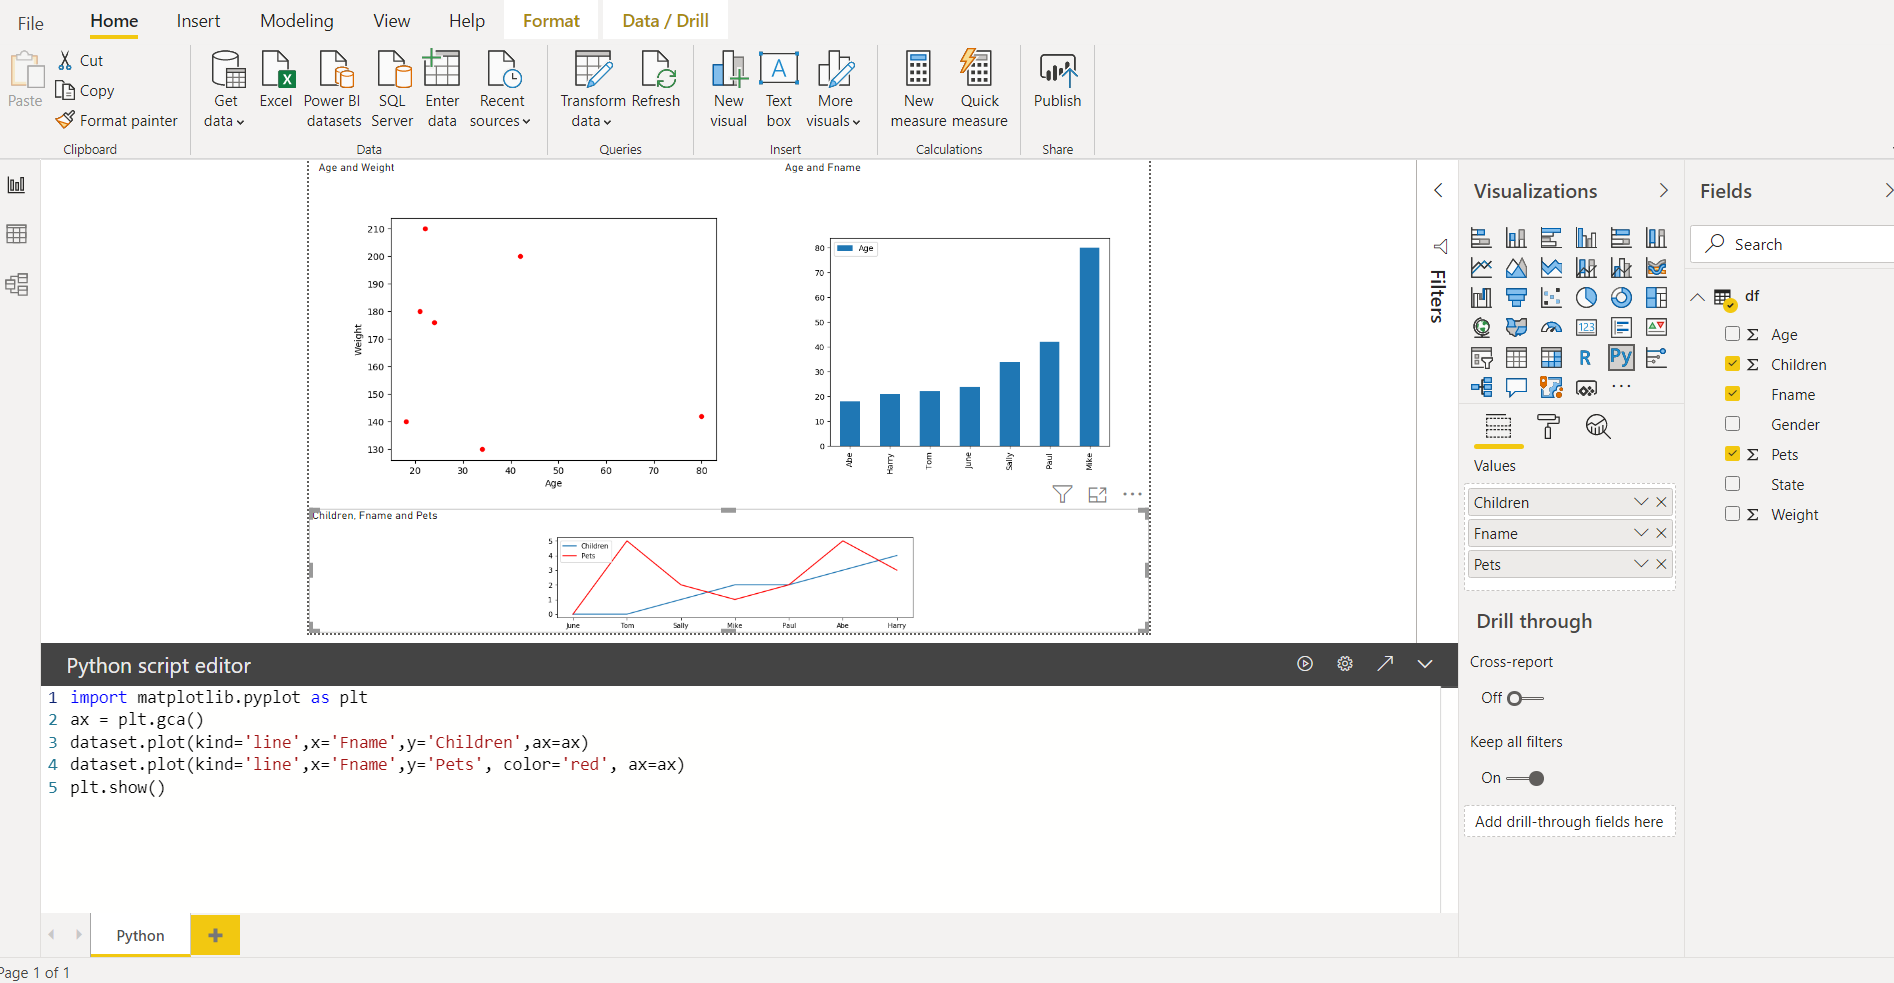

The page's visual inventory and layout, read from the dashboard file:
{"tool":"powerbi","page":{"name":"Python","canvas":[1280,720],"ordinal":0},"visuals":[{"type":"pythonVisual","fields":{"Values":["df.Age","df.Weight"]},"box":[9.5,0,710.5,521.9],"z":0},{"type":"pythonVisual","fields":{"Values":["df.Children","df.Fname","df.Pets"]},"box":[0,531.3,1279.6,188.7],"z":1},{"type":"pythonVisual","fields":{"Values":["df.Age","df.Fname"]},"box":[720,0,559.6,531.3],"z":2}]}

Visuals, with their boxes on the page's 1280x720 design canvas (x1, y1, x2, y2). These are canvas units, not pixel positions in the 1894x983 screenshot, which may show the page scaled, cropped or inside an application window:
pythonVisual - df.Age x df.Weight: [left=10, top=0, right=720, bottom=522]
pythonVisual - df.Children x df.Fname: [left=0, top=531, right=1280, bottom=720]
pythonVisual - df.Age x df.Fname: [left=720, top=0, right=1280, bottom=531]
